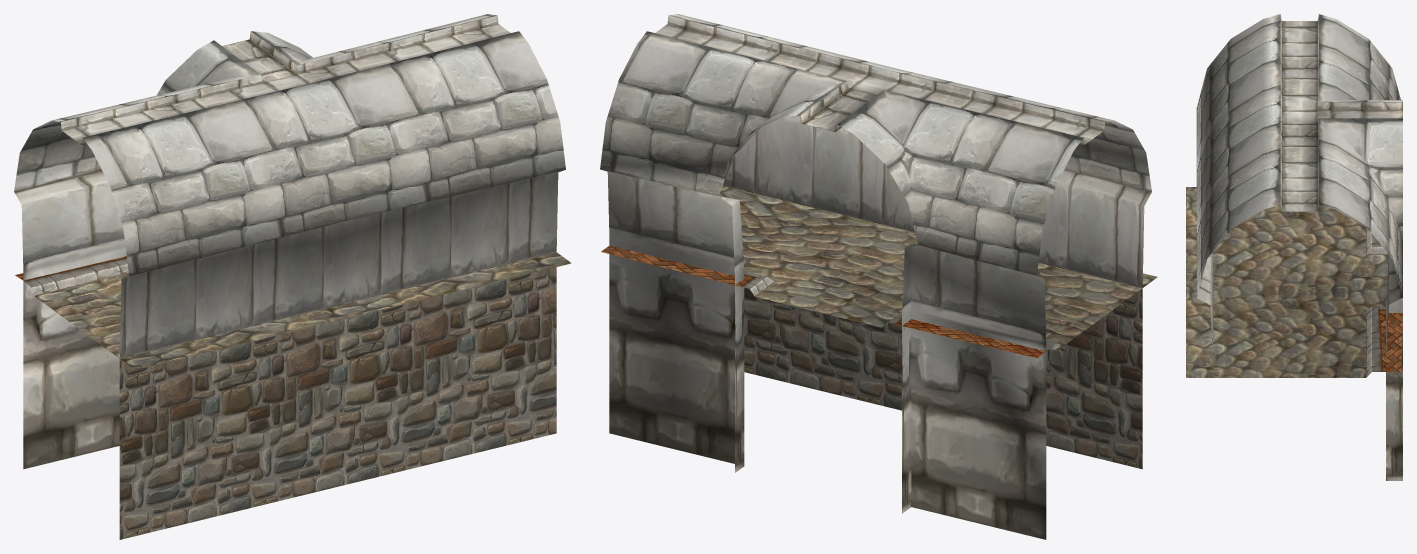
File: stormwind_040.fbx
3 renders of one model, left to right at view 1: azimuth 30°, elevation 25°; view 2: azimuth 150°, elevation 25°; view 3: azimuth 270°, elevation 25°, orthographic. The views are drawn at different scales.
Visible parts, largest first — view 1: stormwind_040_3, stormwind_040_4, stormwind_040_11, stormwind_040_5, stormwind_040_46, stormwind_040_12; view 2: stormwind_040_11, stormwind_040_4, stormwind_040_3, stormwind_040_46, stormwind_040_5, stormwind_040_12; view 3: stormwind_040_4, stormwind_040_46, stormwind_040_5, stormwind_040_11, stormwind_040_12.
Part boxes in pixels (x1,y1,x2,y2): stormwind_040_3: [119, 251, 556, 539]; stormwind_040_4: [14, 14, 565, 275]; stormwind_040_11: [14, 169, 564, 469]; stormwind_040_5: [61, 15, 510, 144]; stormwind_040_46: [35, 252, 571, 369]; stormwind_040_12: [15, 256, 128, 296]; stormwind_040_11: [601, 115, 1151, 539]; stormwind_040_4: [600, 14, 1151, 275]; stormwind_040_3: [723, 185, 1142, 469]; stormwind_040_46: [719, 186, 1157, 350]; stormwind_040_5: [655, 15, 1104, 144]; stormwind_040_12: [601, 245, 1056, 358]; stormwind_040_4: [1196, 14, 1402, 297]; stormwind_040_46: [1186, 187, 1388, 377]; stormwind_040_5: [1280, 14, 1402, 211]; stormwind_040_11: [1197, 252, 1402, 480]; stormwind_040_12: [1366, 228, 1402, 377].
Bounding box in the file's own units: 22.05 × 18.07 × 10.59.
